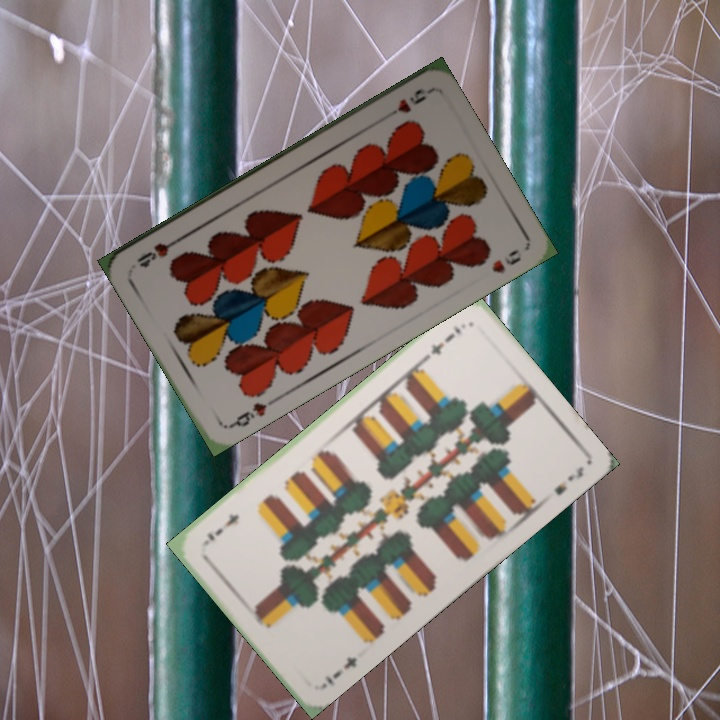E7: (420, 321, 465, 363), (320, 652, 360, 689)
H9: (379, 84, 433, 122), (225, 395, 278, 431)
